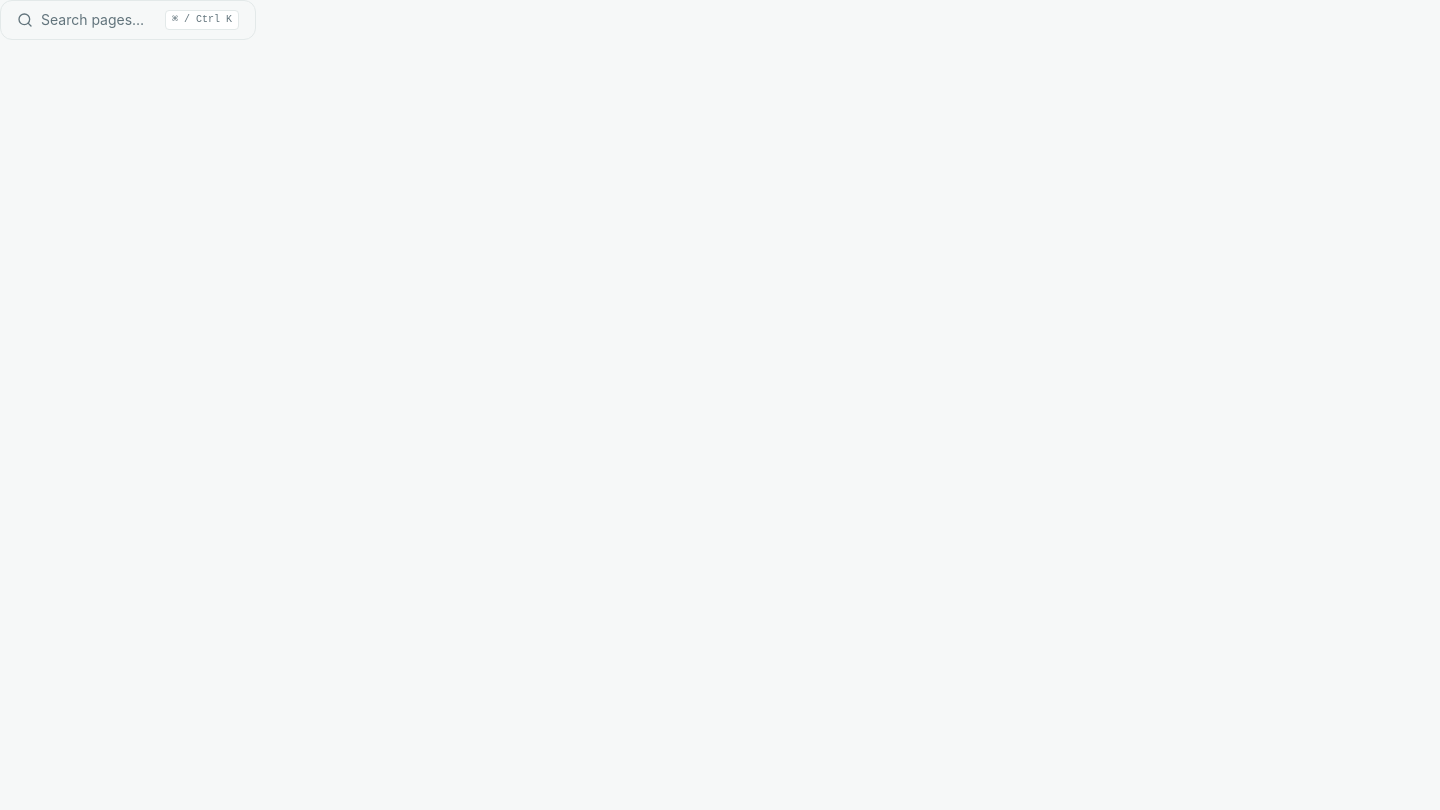
it: WorkspaceSearch › opens from the keyboard and navigates to a nested school page
Press k
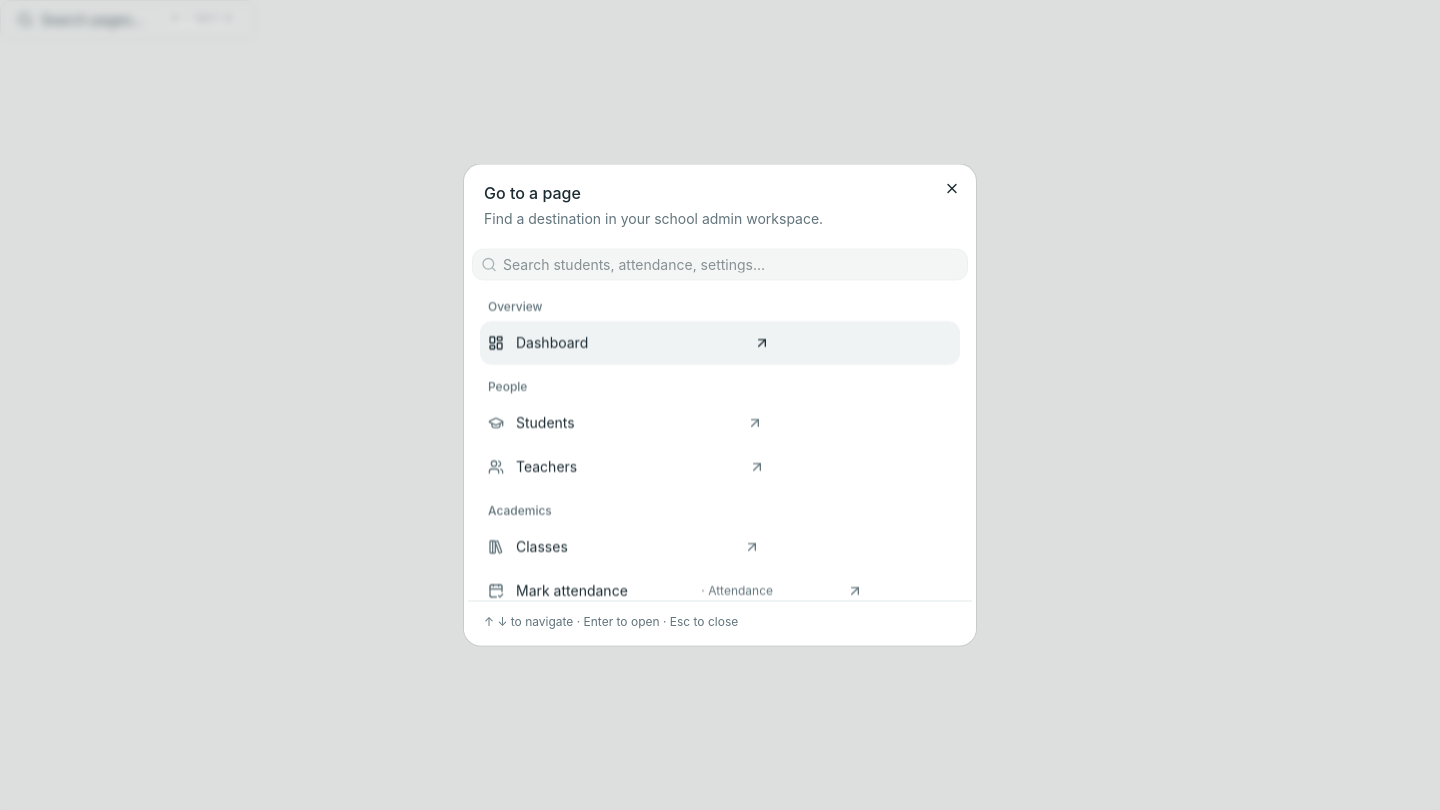
Check: the dialog is shown, box [464,164,976,646]
In the dropdown: (732, 264) [497,254,967,274], type "invoices"
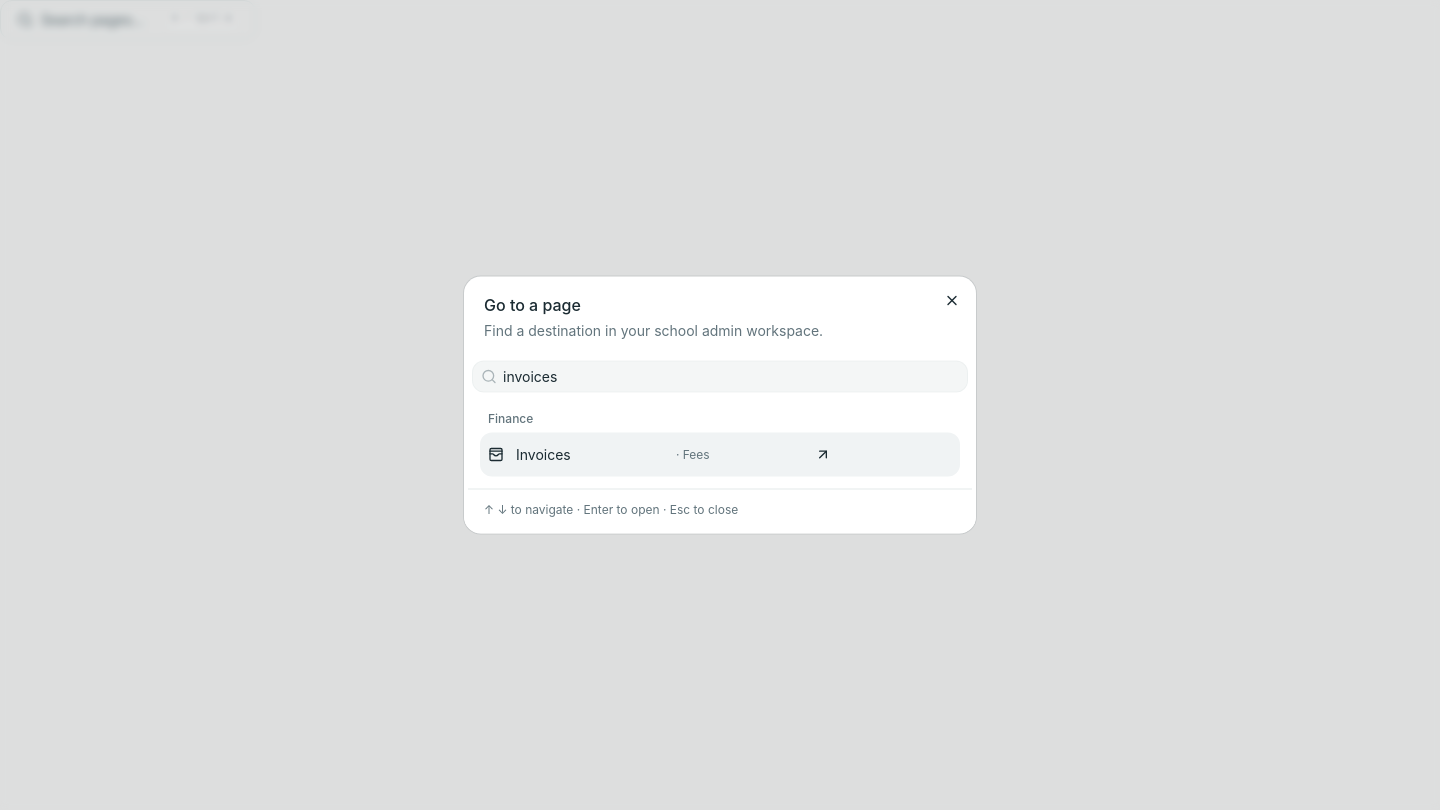
Click the option "Invoices · Fees": click(543, 454) [480,432,960,476]
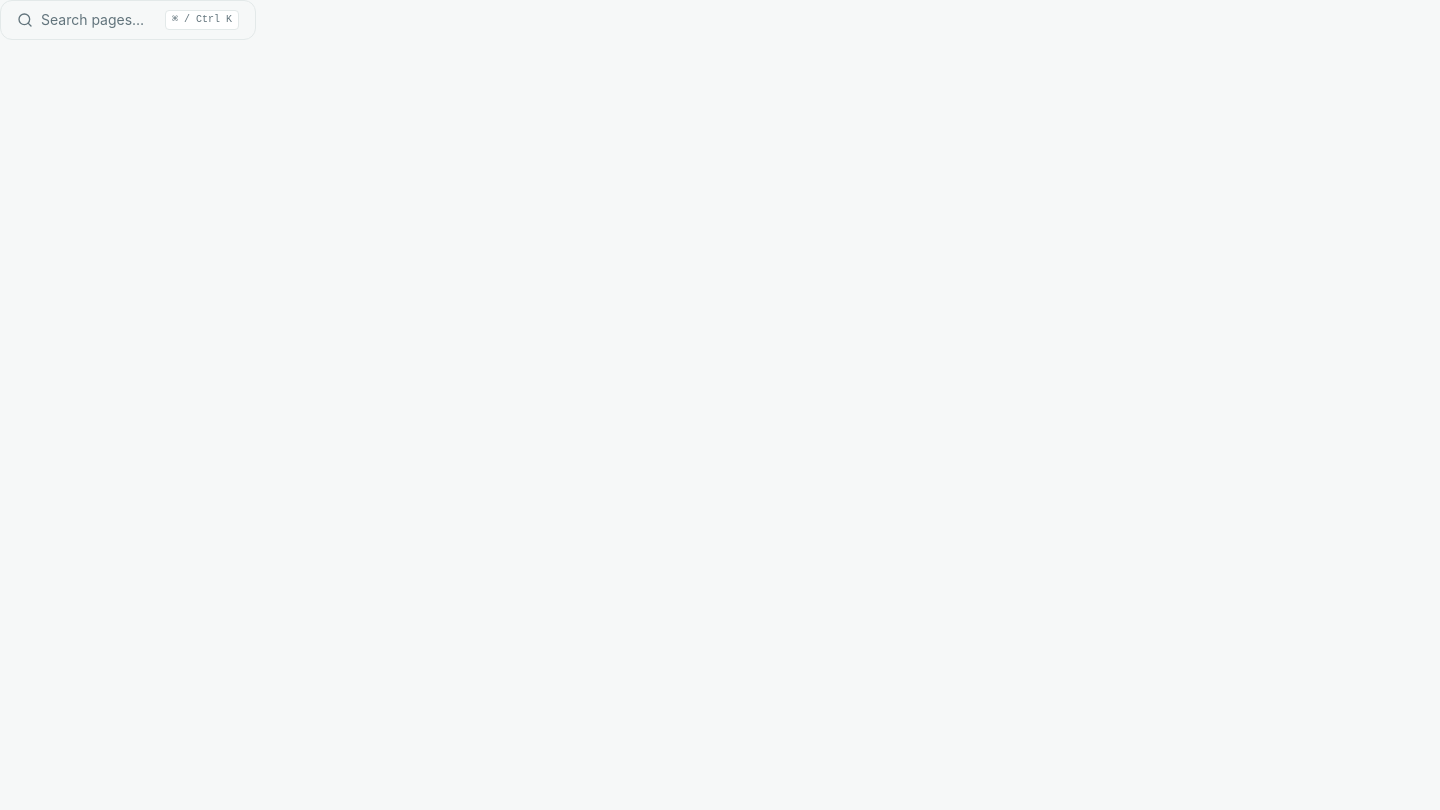
Check: the dialog is gone
